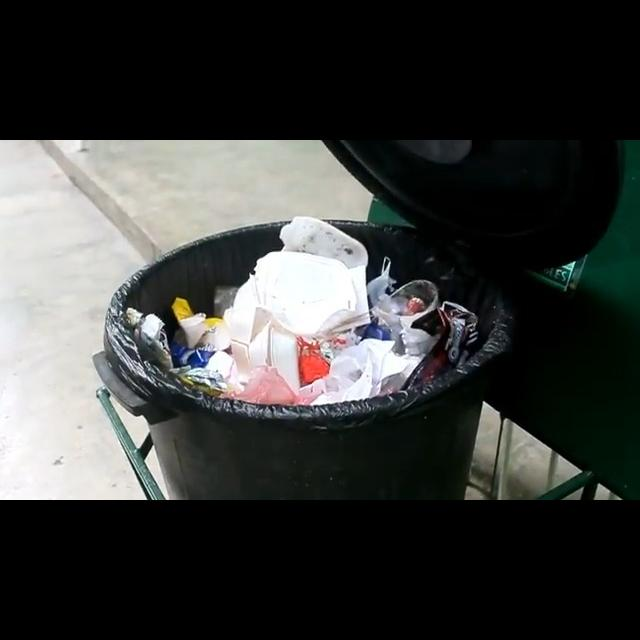paper: (235, 215, 367, 340), (303, 333, 400, 407)
plastic: (406, 303, 477, 391), (363, 266, 435, 338), (226, 365, 308, 407), (172, 298, 235, 332)
